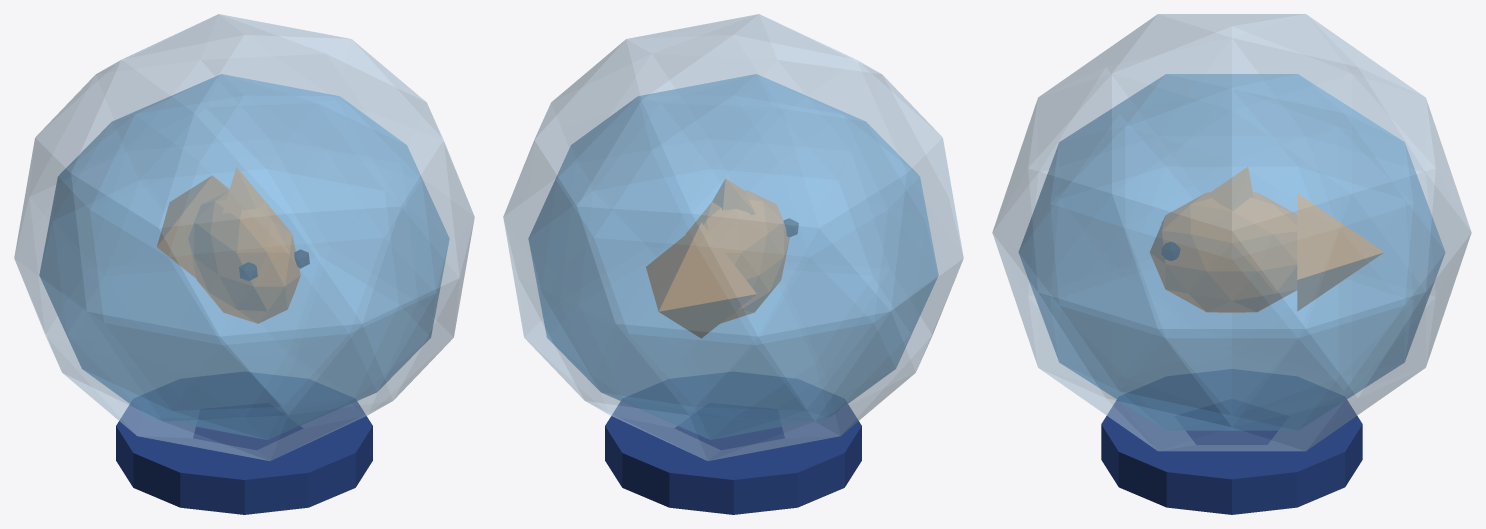
Rendered from Goldfish.fbx.
3 views of the same model, side by side, from view 1: azimuth 30°, elevation 25°; view 2: azimuth 150°, elevation 25°; view 3: azimuth 270°, elevation 25° (orthographic).
Visible parts, largest first — view 1: Bowl, Water, Base, Fish; view 2: Bowl, Water, Base, Fish; view 3: Bowl, Water, Base, Fish.
Boxes of the visible parts, <box> form: Bowl: <box>14,14,474,460</box>; Water: <box>39,74,449,439</box>; Base: <box>116,401,372,514</box>; Fish: <box>157,167,300,323</box>; Bowl: <box>503,14,963,460</box>; Water: <box>528,74,938,439</box>; Base: <box>605,401,861,514</box>; Fish: <box>646,179,789,338</box>; Bowl: <box>992,14,1471,451</box>; Water: <box>1018,74,1445,430</box>; Base: <box>1101,399,1362,514</box>; Fish: <box>1150,167,1383,312</box>.
Bounding box in the file's own units: 2.09 × 2.2 × 2.2.
